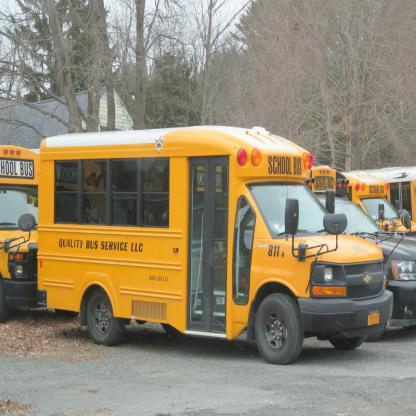Bus: (37, 127, 394, 367), (304, 167, 416, 328), (0, 145, 81, 318), (342, 168, 415, 240), (361, 168, 416, 221)
